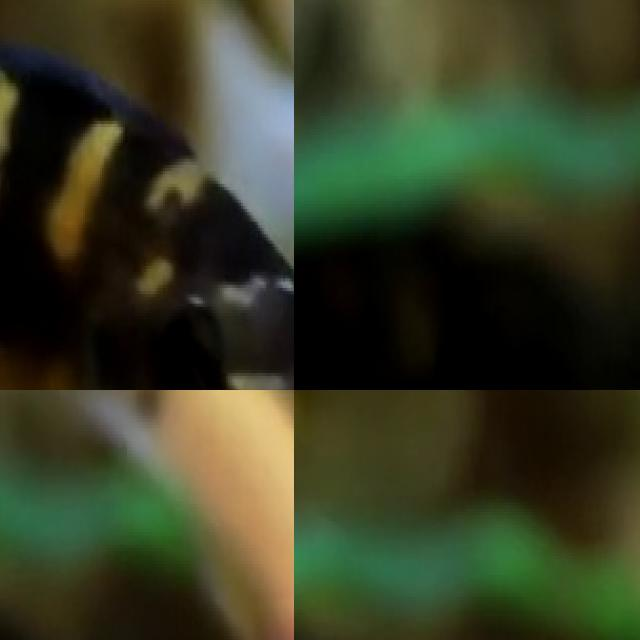fish: (0, 0, 294, 390), (0, 390, 294, 640)
